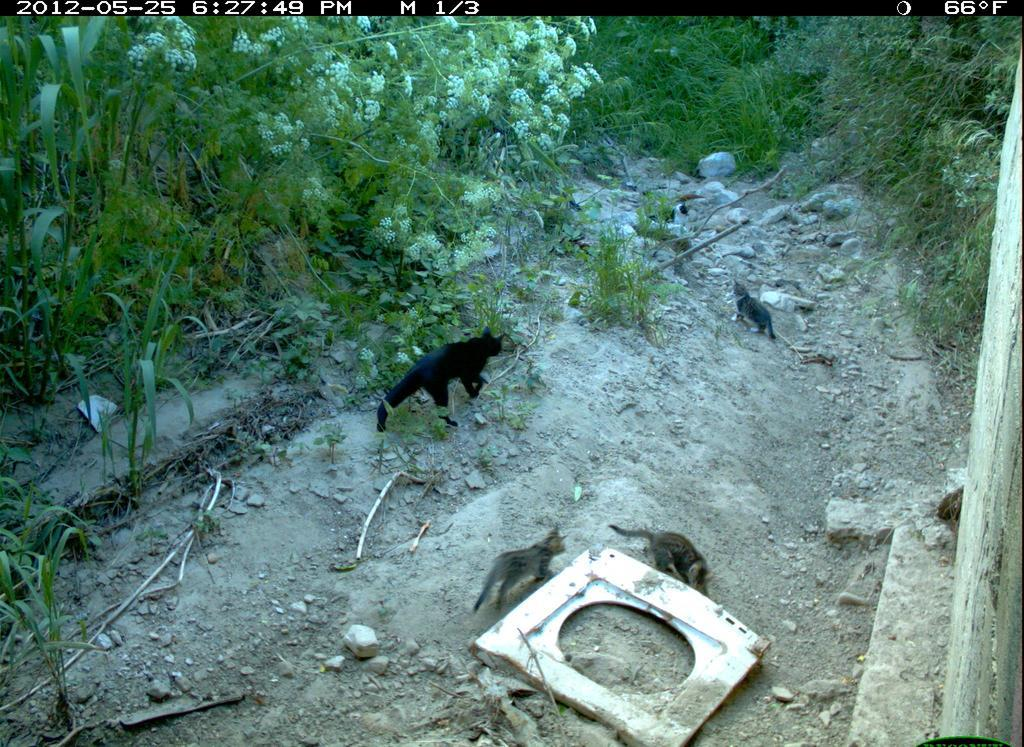cat: (370, 322, 513, 441), (470, 524, 574, 617), (608, 515, 715, 600), (728, 273, 783, 344)
